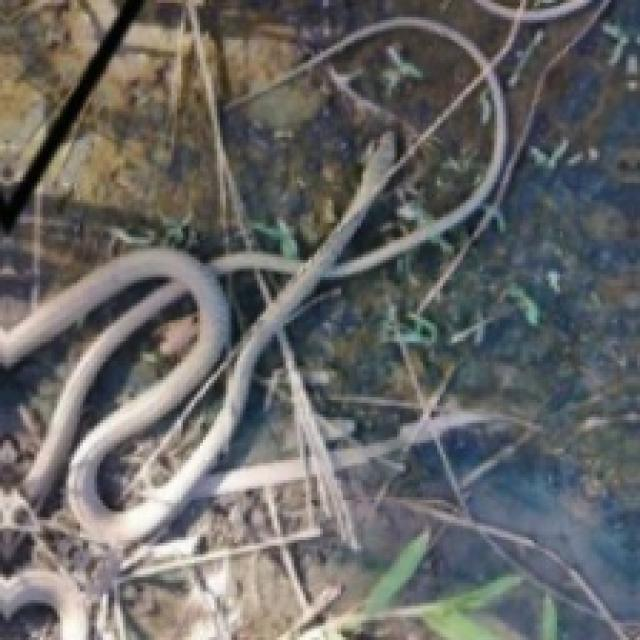paradise tree snake: (0, 0, 637, 637), (57, 246, 231, 526), (0, 0, 117, 186)
